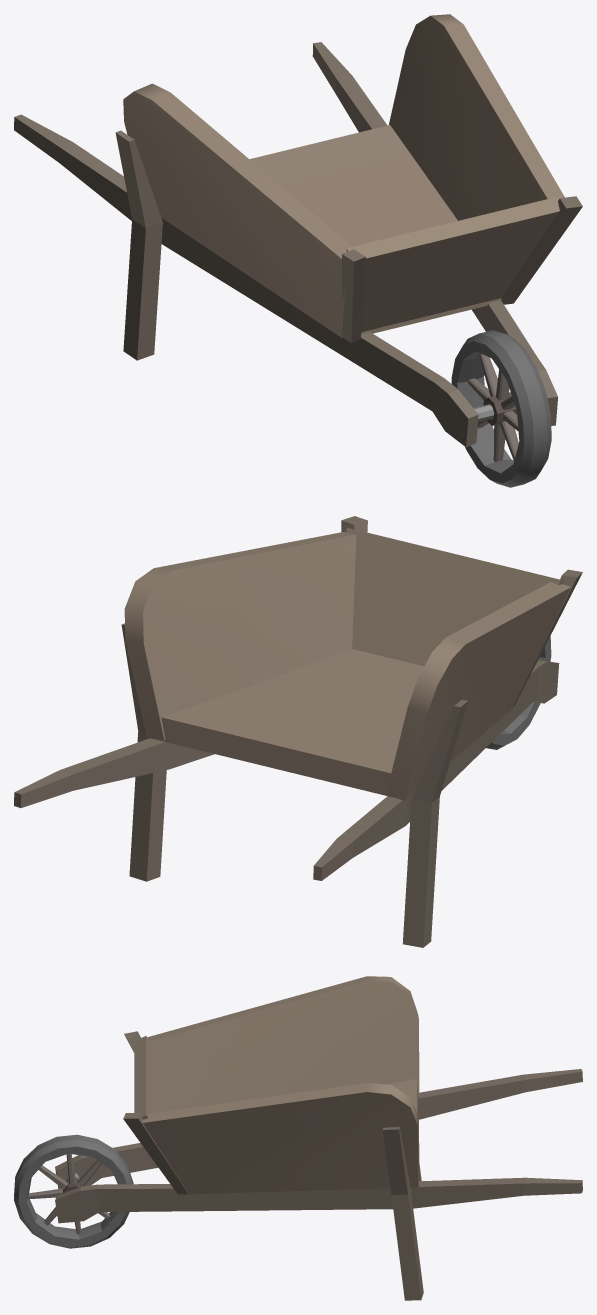
The model's file is Wheelbarrow_W.gltf.
The picture shows the model from 3 angles, top to bottom: view 1: azimuth 30°, elevation 25°; view 2: azimuth 150°, elevation 25°; view 3: azimuth 270°, elevation 25°; orthographic projection. The views are drawn at different scales.
Visible parts, largest first — view 1: body, wheel_4, wheel_2, wheel_0, wheel_3; view 2: body, wheel_0; view 3: body, wheel_1, wheel_3, wheel_4.
Part boxes in pixels (left/top/right/bottom): body: left=14, top=14, right=582, bottom=473; wheel_4: left=479, top=330, right=547, bottom=487; wheel_2: left=463, top=333, right=533, bottom=487; wheel_0: left=451, top=341, right=523, bottom=483; wheel_3: left=507, top=334, right=551, bottom=477; body: left=14, top=516, right=582, bottom=947; wheel_0: left=492, top=636, right=551, bottom=745; body: left=26, top=976, right=582, bottom=1300; wheel_1: left=18, top=1146, right=126, bottom=1246; wheel_3: left=14, top=1140, right=131, bottom=1248; wheel_4: left=14, top=1134, right=133, bottom=1197.
Size of the model in its own units: 1 by 0.804 by 1.92.
Materials: 1 (1 with a texture image).
